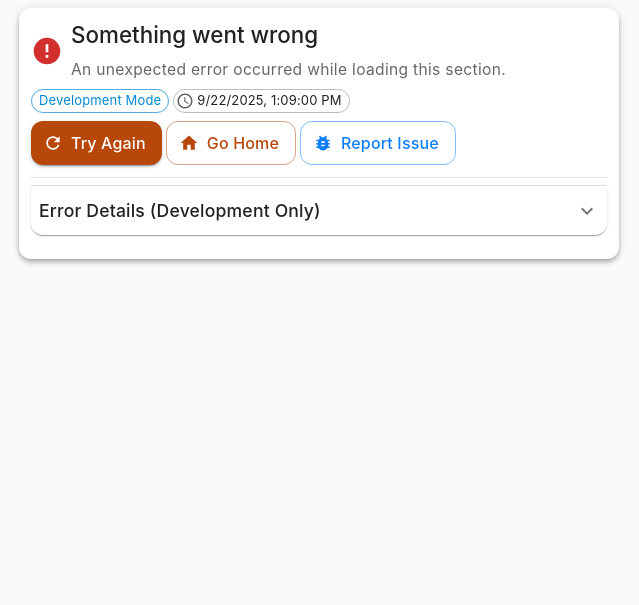
it: ErrorBoundary Components › ErrorFallback › expands error details when clicked
Click the button "Error Details (Development Only)". click: click(319, 211)
box: [39,199,599,223]
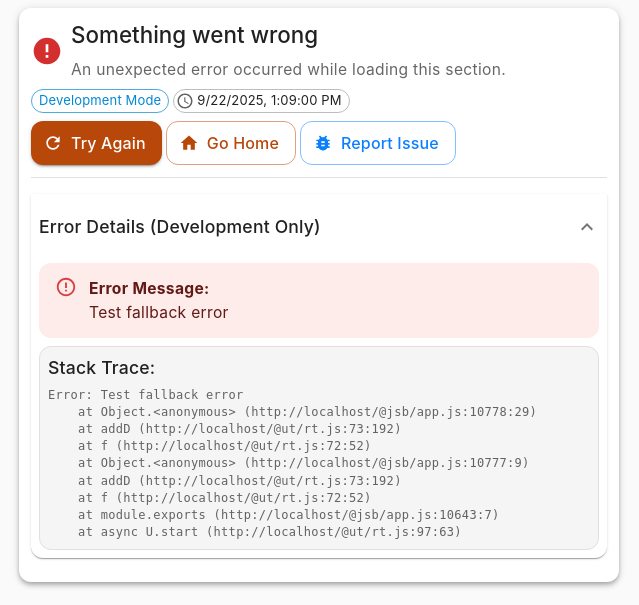
Expected: the text "Test fallback error" is shown, [89,303,229,322]
